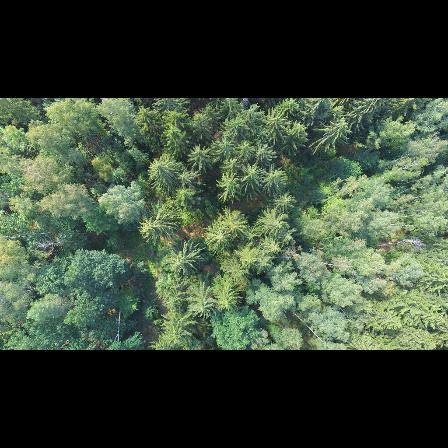Dead: (368, 235, 426, 252), (35, 237, 75, 250)
